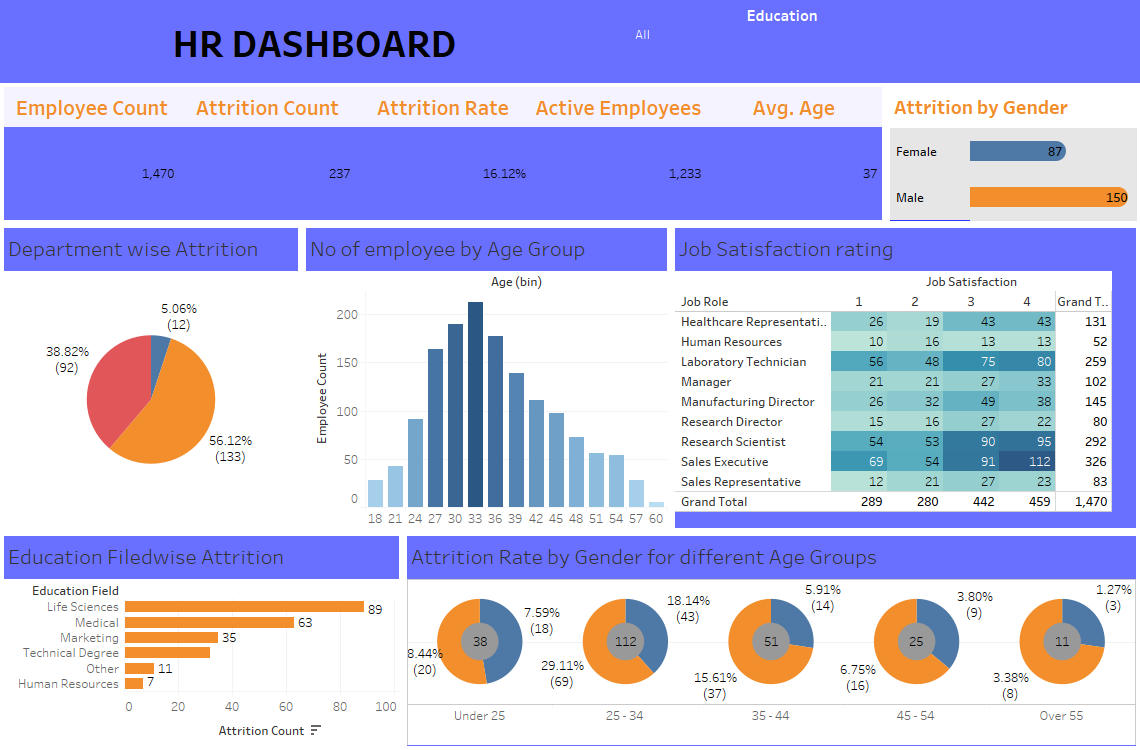

Layout of this report page (visuals, bound fields, positions):
{"tool":"tableau","page":{"name":"HR analyst dashboard","canvas":[1140,750],"ordinal":0},"visuals":[{"type":"text","box":[0,0,629,83.3]},{"type":"filter","title":"KPI","param":"[federated.0rnf3av1dri4r610psovn1ah1mq6].[none:Education:nk]","box":[629,0,306,83.3]},{"type":"blank","box":[935,0,205,83.3]},{"type":"worksheet","title":"KPI","mark":"Automatic","box":[0,83.3,886,140.7]},{"type":"worksheet","title":"Attrition by Gender","mark":"Automatic","rows":["Gender"],"cols":["Calculation_531706275965739008","Calculation_531706275965739008"],"box":[886,83.3,254,140.7]},{"type":"worksheet","title":"Department wise Attrition","mark":"Pie","box":[0,224,302,308.1]},{"type":"worksheet","title":"No of employee by Age Group","mark":"Automatic","rows":["Employee Count"],"cols":["Age (bin)"],"box":[302,224,369,308.1]},{"type":"worksheet","title":"Job Satisfaction rating","mark":"Square","rows":["Job Role"],"cols":["Job Satisfaction"],"box":[671,224,469,308.1]},{"type":"worksheet","title":"Education Filedwise Attrition","mark":"Automatic","rows":["Education Field"],"cols":["Calculation_531706275965739008"],"box":[0,532.1,403,217.9]},{"type":"worksheet","title":"Attrition Rate by Gender for different Age Groups","mark":"Pie","rows":["Calculation_531706276088385540","Calculation_531706276088385540"],"cols":["CF_age band"],"box":[403,532.1,737,217.9]}]}

Visuals, with their boxes in screenshot pixels (x1, y1, x2, y2), scaled from the page's 1140x750 canvas onto the 1140x750 screenshot:
text: box(0, 0, 629, 83)
"KPI" filter: box(629, 0, 935, 83)
blank: box(935, 0, 1139, 83)
"KPI" worksheet: box(0, 83, 886, 224)
"Attrition by Gender" worksheet: box(886, 83, 1139, 224)
"Department wise Attrition" worksheet (Pie marks): box(0, 224, 302, 532)
"No of employee by Age Group" worksheet: box(302, 224, 671, 532)
"Job Satisfaction rating" worksheet (Square marks): box(671, 224, 1139, 532)
"Education Filedwise Attrition" worksheet: box(0, 532, 403, 749)
"Attrition Rate by Gender for different Age Groups" worksheet (Pie marks): box(403, 532, 1139, 749)
